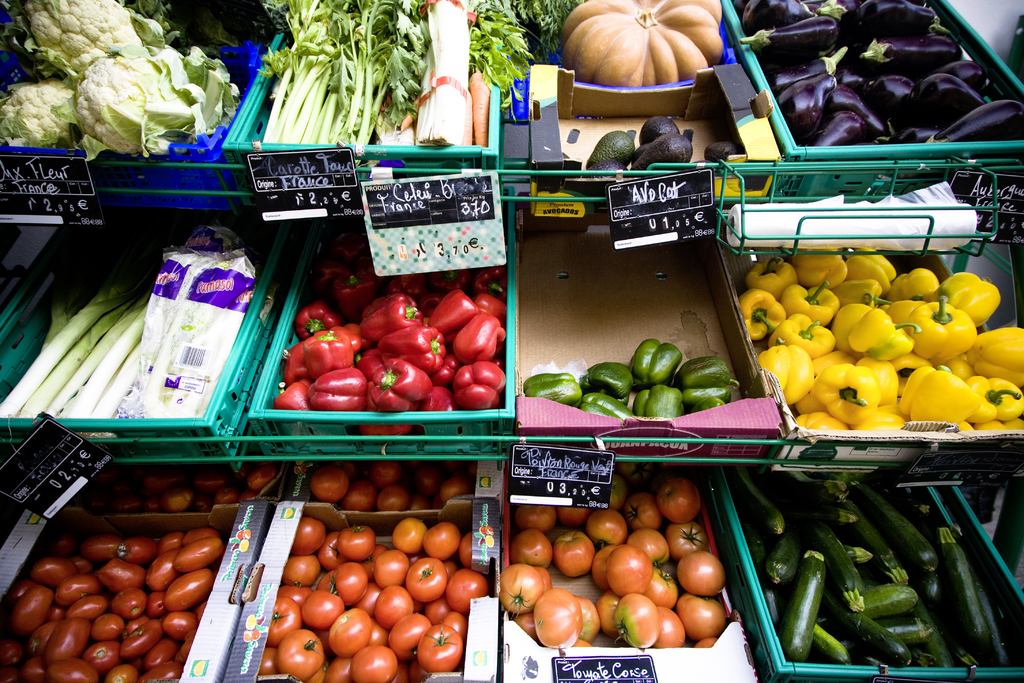Tomato: (501, 460, 725, 647), (258, 516, 492, 682), (0, 525, 223, 682), (83, 464, 278, 511), (310, 460, 474, 512)
